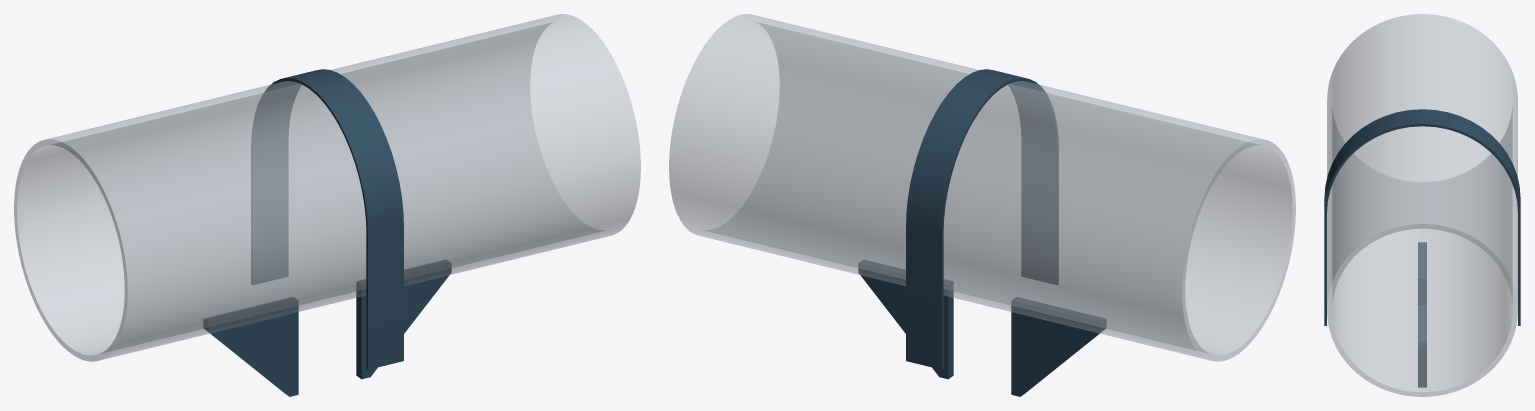
File: TS-659.00.00-09-opora-dn219.glb
3 renders of one model, left to right at view 1: azimuth 30°, elevation 25°; view 2: azimuth 150°, elevation 25°; view 3: azimuth 270°, elevation 25°, orthographic. The views are drawn at different scales.
Parts seen in each view (by area): view 1: truba, homut, upor_2, upor_1; view 2: truba, homut, upor_2, upor_1; view 3: truba, homut, upor_1, upor_2.
Part boxes in pixels (x1,y1,x2,y2): truba: [14, 14, 640, 361]; homut: [251, 69, 403, 369]; upor_2: [203, 297, 298, 396]; upor_1: [356, 260, 451, 379]; truba: [669, 14, 1295, 361]; homut: [906, 69, 1058, 369]; upor_2: [1011, 297, 1106, 396]; upor_1: [858, 260, 953, 379]; truba: [1327, 14, 1517, 396]; homut: [1324, 109, 1520, 325]; upor_1: [1418, 305, 1426, 387]; upor_2: [1418, 242, 1426, 304].
Bounding box in the file's own units: 570 × 322 × 225.
